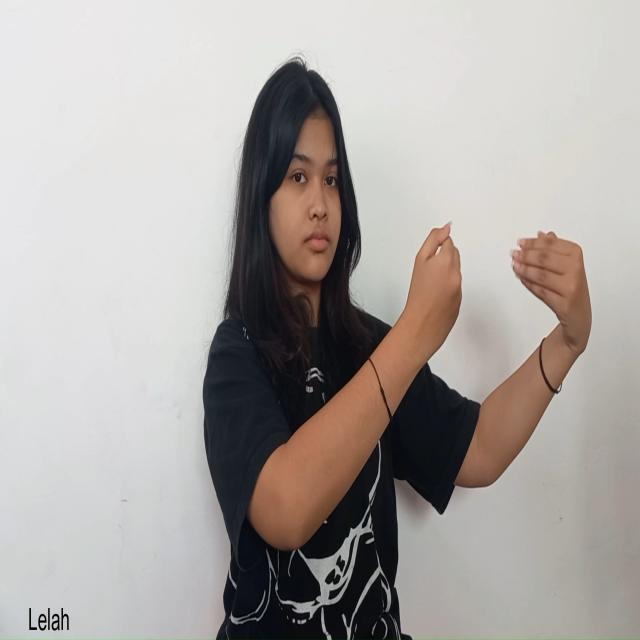Lelah -BISINDO-: (401, 219, 593, 378)
